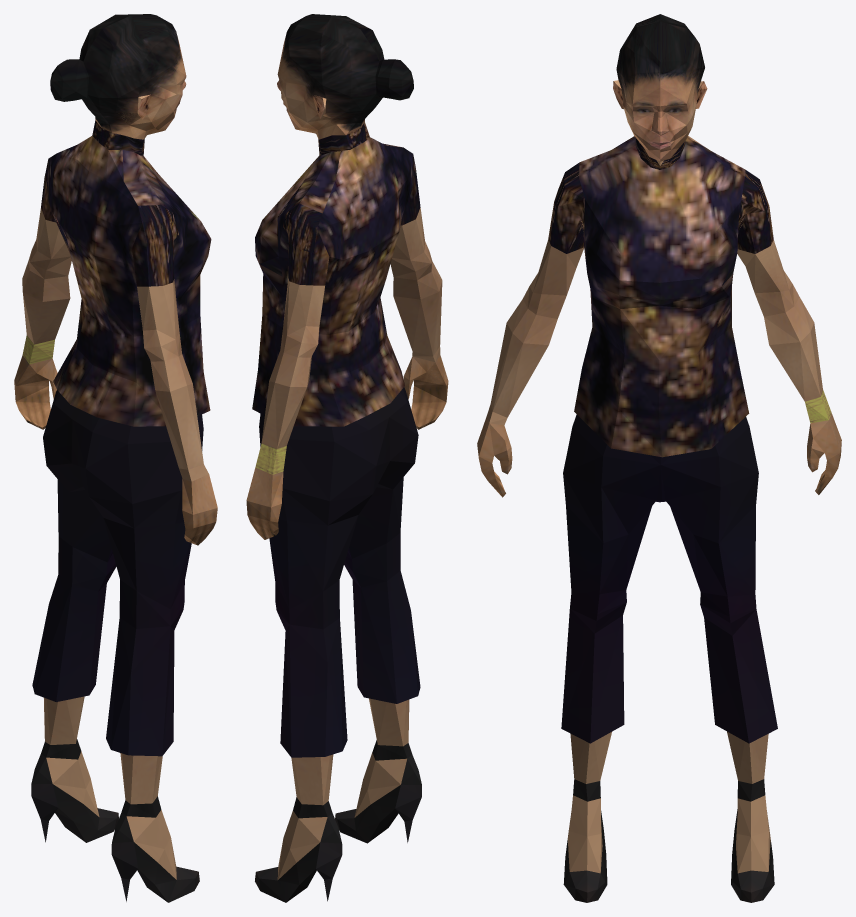
Rendered from sofori.obj.
3 renders of one model, left to right at view 1: azimuth 30°, elevation 25°; view 2: azimuth 150°, elevation 25°; view 3: azimuth 270°, elevation 25°, orthographic. The views are drawn at different scales.
Visible parts, largest first — view 1: _Pelvis; view 2: _Pelvis; view 3: _Pelvis.
Part boxes in pixels (box(x1,y1,x2,y2)): _Pelvis: box(14, 14, 217, 902); _Pelvis: box(246, 14, 448, 902); _Pelvis: box(477, 14, 841, 902).
Bounding box in the file's own units: 0.3235 × 1.8 × 0.6856.
Materials: 1 (1 with a texture image).
